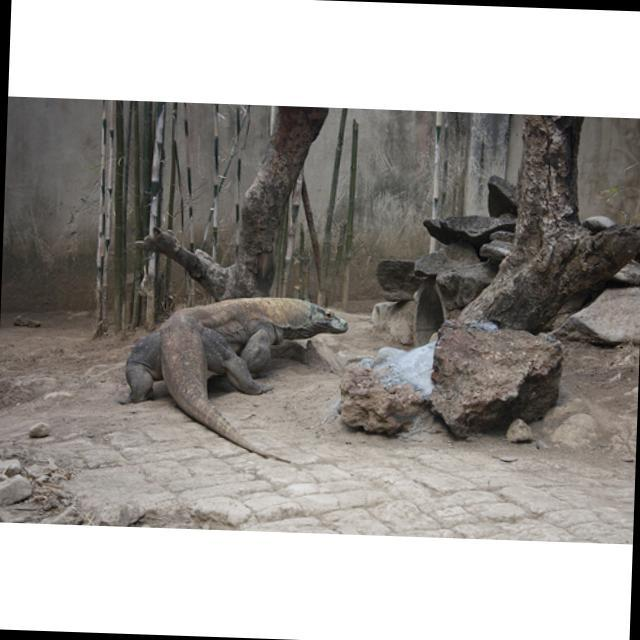KomodoDragon: (120, 291, 351, 464)
